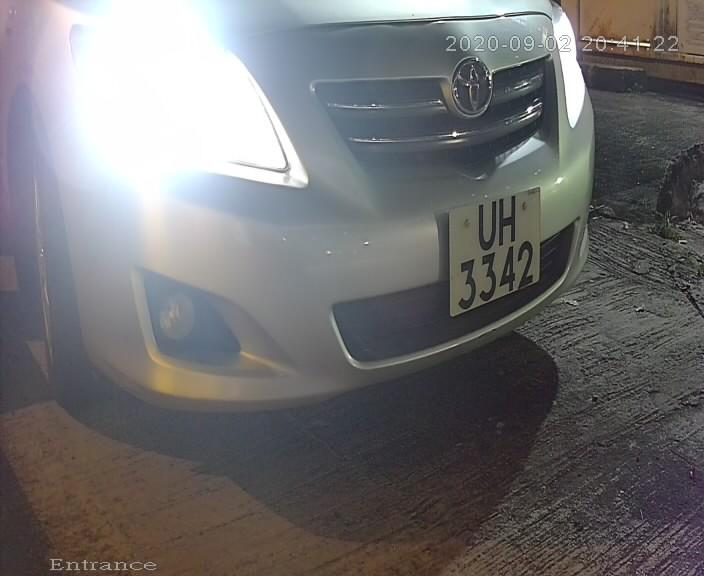License Plate: (437, 175, 551, 330)
